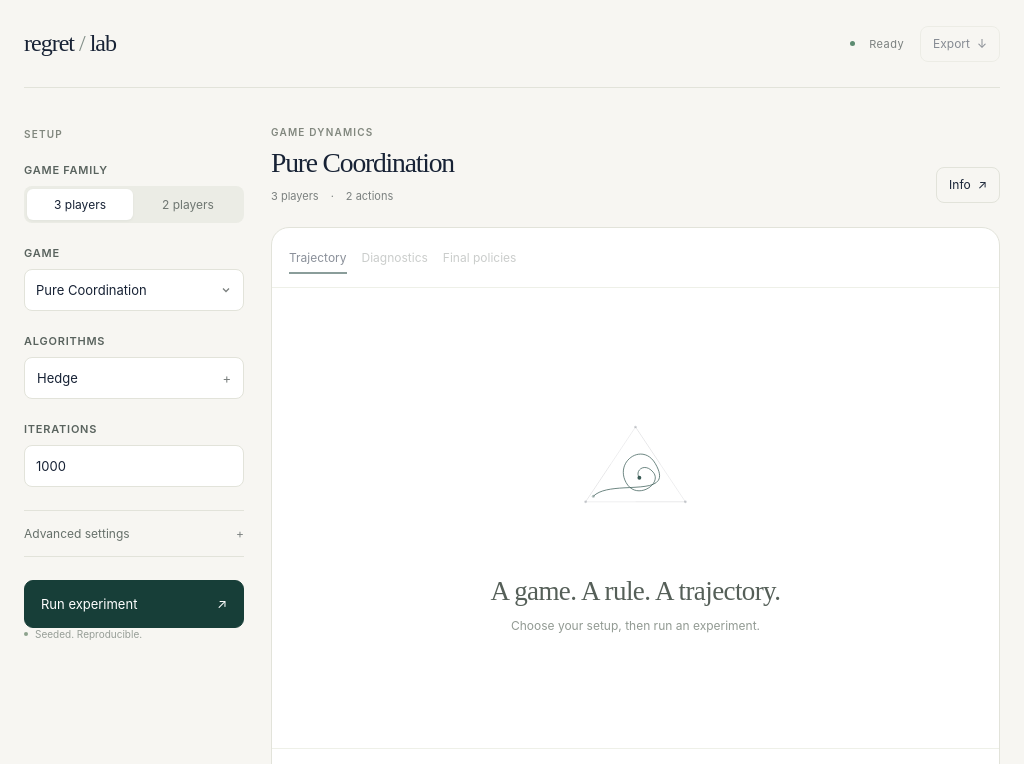
research workspace › runs explicit seeded config and preserves completed results while editing setup
The width and height of the screenshot is (1024, 764).
Click the button "Run experiment ↗". click: (134, 604)
box: 24,580 -> 244,628
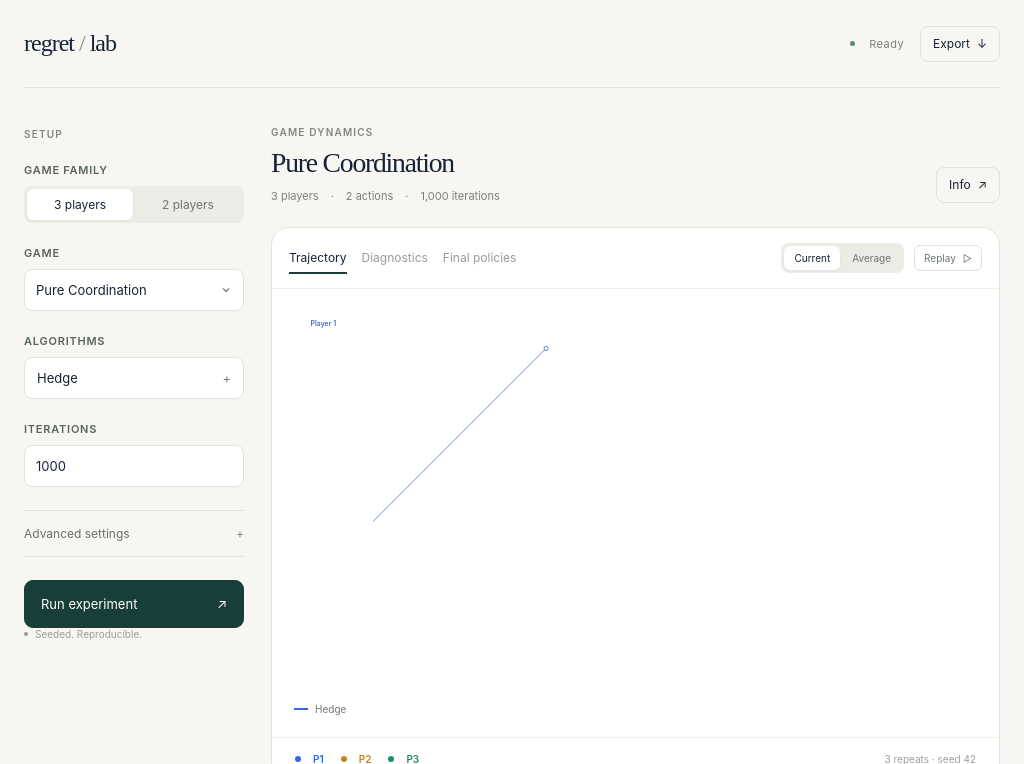
Expected: the element named "Strategy trajectories" is shown, 294,306 -> 626,718
Replace the text in the number field labelled "Iterations" with "1500". click: (134, 466)
box: 24,445 -> 244,487
(page scrolled)
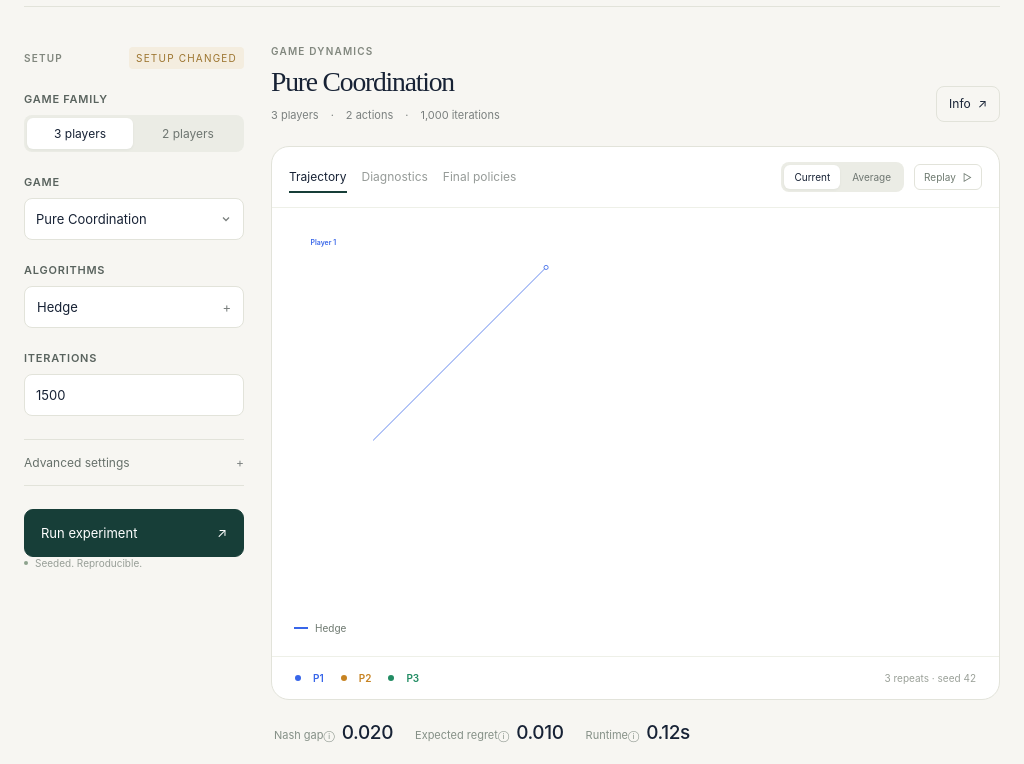
Expected: the text "0.020" is shown, 342,720 -> 393,744
Expected: the text "Setup changed" is shown, 129,47 -> 244,69
